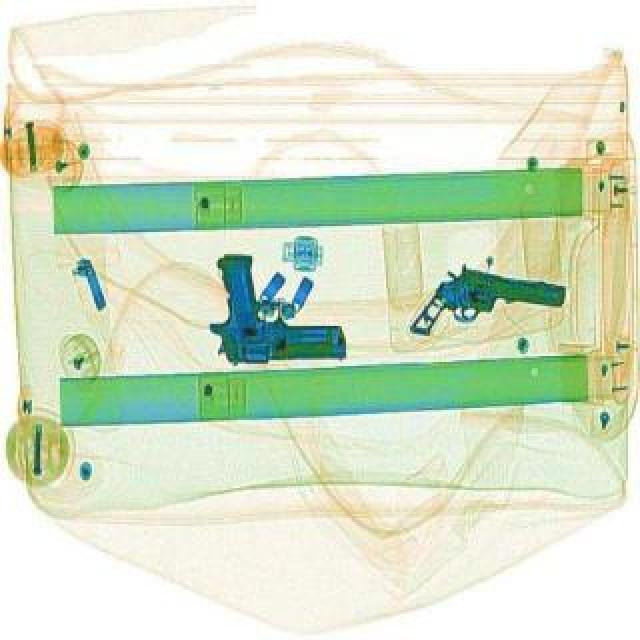gun: (202, 254, 346, 368), (408, 264, 568, 358)
